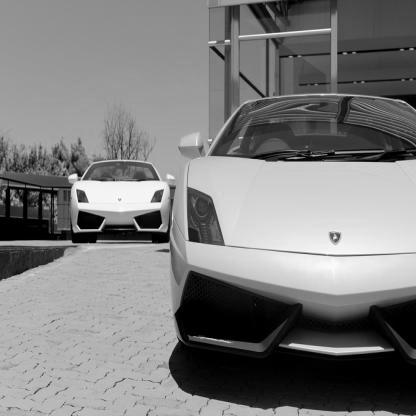car: (164, 67, 416, 411), (47, 126, 175, 255)
